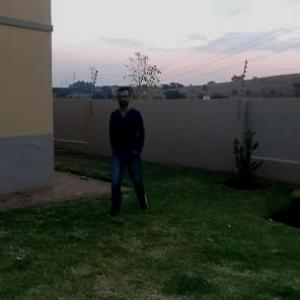follow: (104, 86, 145, 205)
